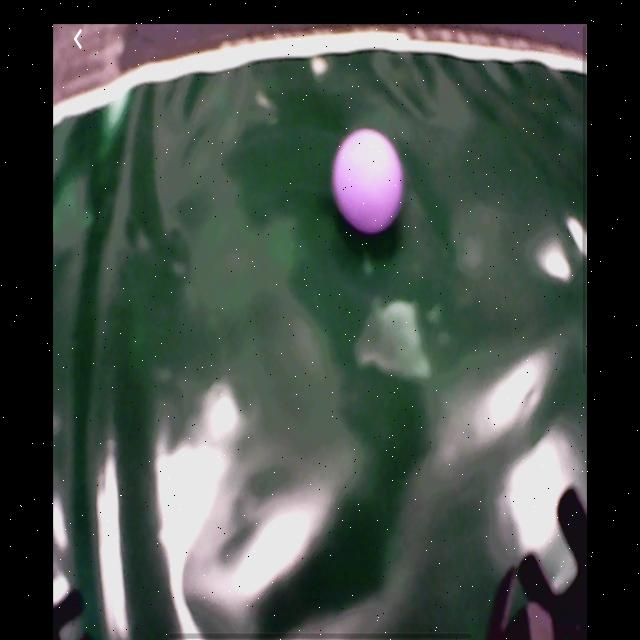ball: (334, 124, 404, 235)
